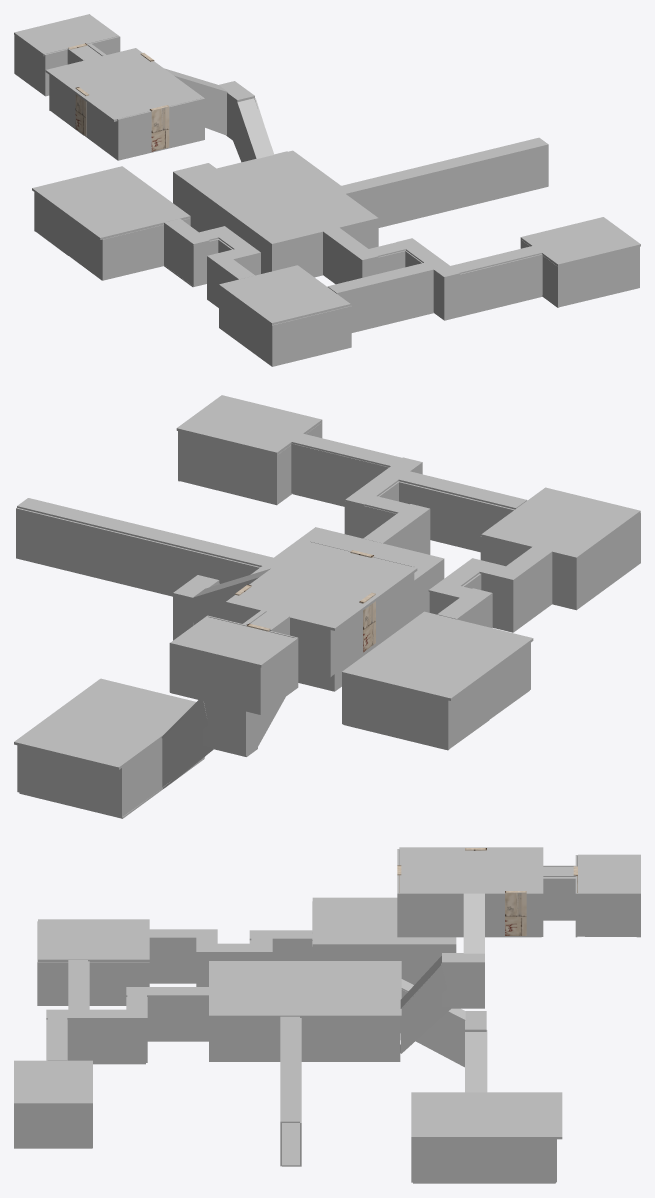
Rendered from game_jam_hosue_6.fbx.
3 renders of one model, top to bottom at view 1: azimuth 30°, elevation 25°; view 2: azimuth 150°, elevation 25°; view 3: azimuth 270°, elevation 25°, orthographic. The views are drawn at different scales.
Visible parts, largest first — view 1: Cube.051, Cube.049, Cube.114, Cube.104, Cube.121, Cube.066, Cube.067, Cube.112, Cube.089, Cube.015, Cube.103, Cube.065 (+54 smaller); view 2: Cube.111, Cube.113, Cube.131, Cube.127, Cube.068, Cube.069, Cube.048, Cube.050, Cube.103, Cube.162, Cube.079, Cube.163 (+54 smaller); view 3: Cube.016, Cube.106, Cube.115, Cube.045, Cube.132, Cube.133, Cube.017, Cube.126, Cube.118, Cube.041, Cube.072, Cube.056 (+52 smaller).
Part boxes in pixels (x1,y1,x2,y2): Cube.051: (445, 254, 542, 318); Cube.049: (338, 271, 433, 331); Cube.114: (557, 246, 639, 307); Cube.104: (272, 306, 351, 366); Cube.121: (117, 98, 204, 160); Cube.066: (412, 162, 480, 219); Cube.067: (480, 146, 548, 202); Cube.112: (102, 218, 190, 280); Cube.089: (271, 220, 377, 276); Cube.015: (181, 180, 271, 273); Cube.103: (219, 287, 273, 366); Cube.065: (347, 179, 412, 227); Cube.111: (342, 674, 449, 750); Cube.113: (178, 431, 277, 505); Cube.131: (18, 746, 122, 817); Cube.127: (169, 642, 259, 714); Cube.068: (16, 508, 98, 577); Cube.069: (98, 528, 180, 595); Cube.048: (399, 481, 514, 551); Cube.050: (291, 443, 388, 505); Cube.103: (575, 513, 640, 608); Cube.162: (14, 726, 140, 769); Cube.079: (162, 700, 212, 787); Cube.163: (36, 710, 162, 753); Cube.016: (301, 1018, 400, 1059); Cube.106: (39, 962, 148, 1004); Cube.115: (14, 1105, 91, 1148); Cube.045: (67, 1019, 145, 1062); Cube.132: (411, 1139, 483, 1182); Cube.133: (484, 1139, 556, 1182); Cube.017: (209, 1018, 280, 1059); Cube.126: (575, 893, 640, 937); Cube.118: (399, 893, 463, 936); Cube.041: (147, 997, 208, 1039); Cube.072: (400, 964, 451, 1053); Cube.056: (149, 939, 196, 982).
Bounding box in the file's own units: 9119 × 3934 × 10840.
